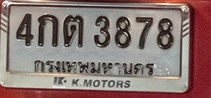num4: (14, 12, 35, 48)
txt01: (36, 13, 60, 48)
txt16: (61, 13, 85, 49)
